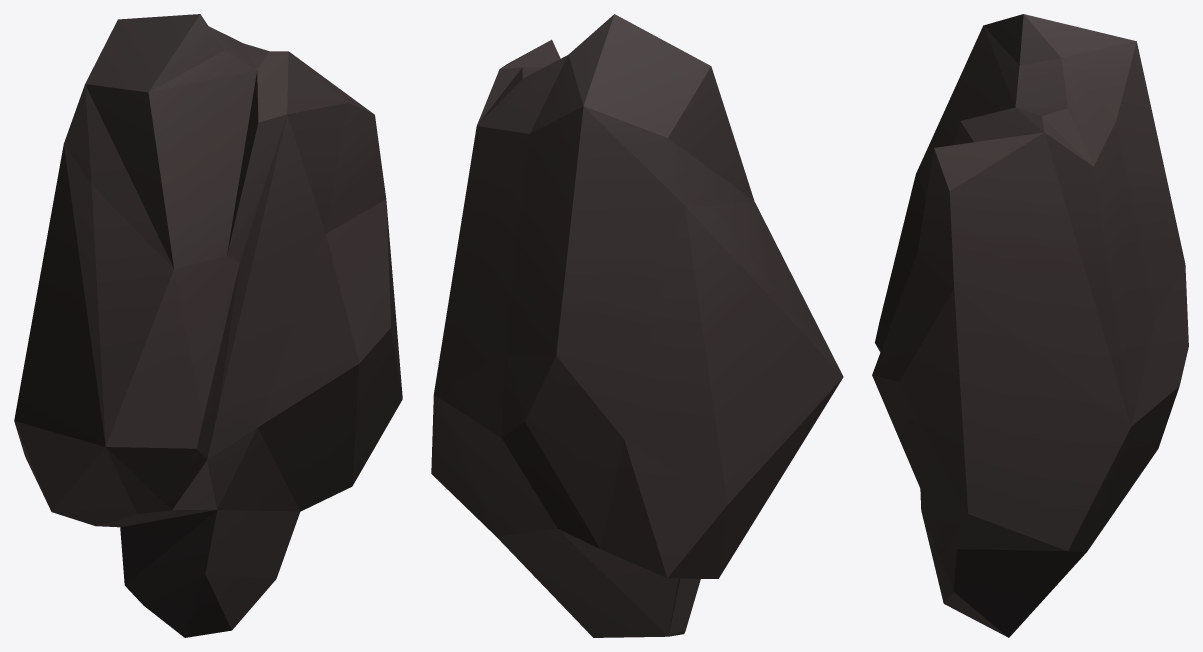
Rendered from woodland_rock_5.glb.
3 views of the same model, side by side, from view 1: azimuth 30°, elevation 25°; view 2: azimuth 150°, elevation 25°; view 3: azimuth 270°, elevation 25° (orthographic). The views are drawn at different scales.
Parts seen in each view (by area): view 1: Rock 5; view 2: Rock 5; view 3: Rock 5.
Boxes of the visible parts, left/top/right/bottom form: Rock 5: left=14, top=14, right=402, bottom=637; Rock 5: left=431, top=14, right=843, bottom=637; Rock 5: left=872, top=14, right=1188, bottom=637.
Size of the model in its own units: 5.55 by 9.65 by 4.54.
Materials: 1 (1 with a texture image).
